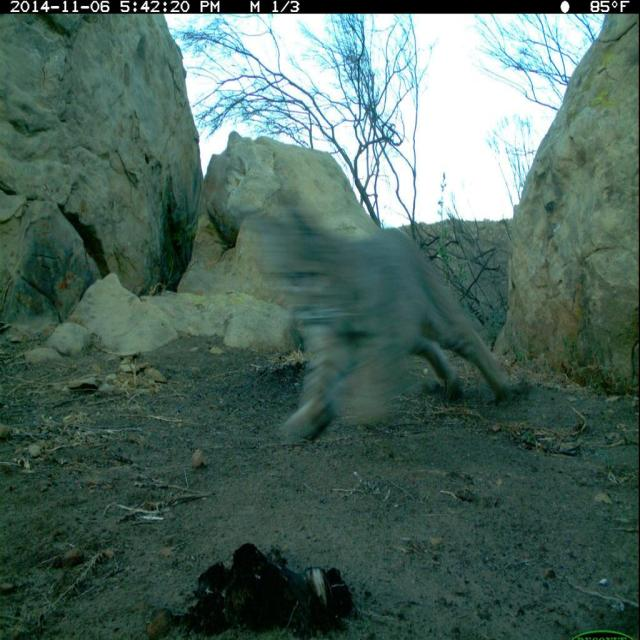bobcat: (234, 176, 526, 453)
